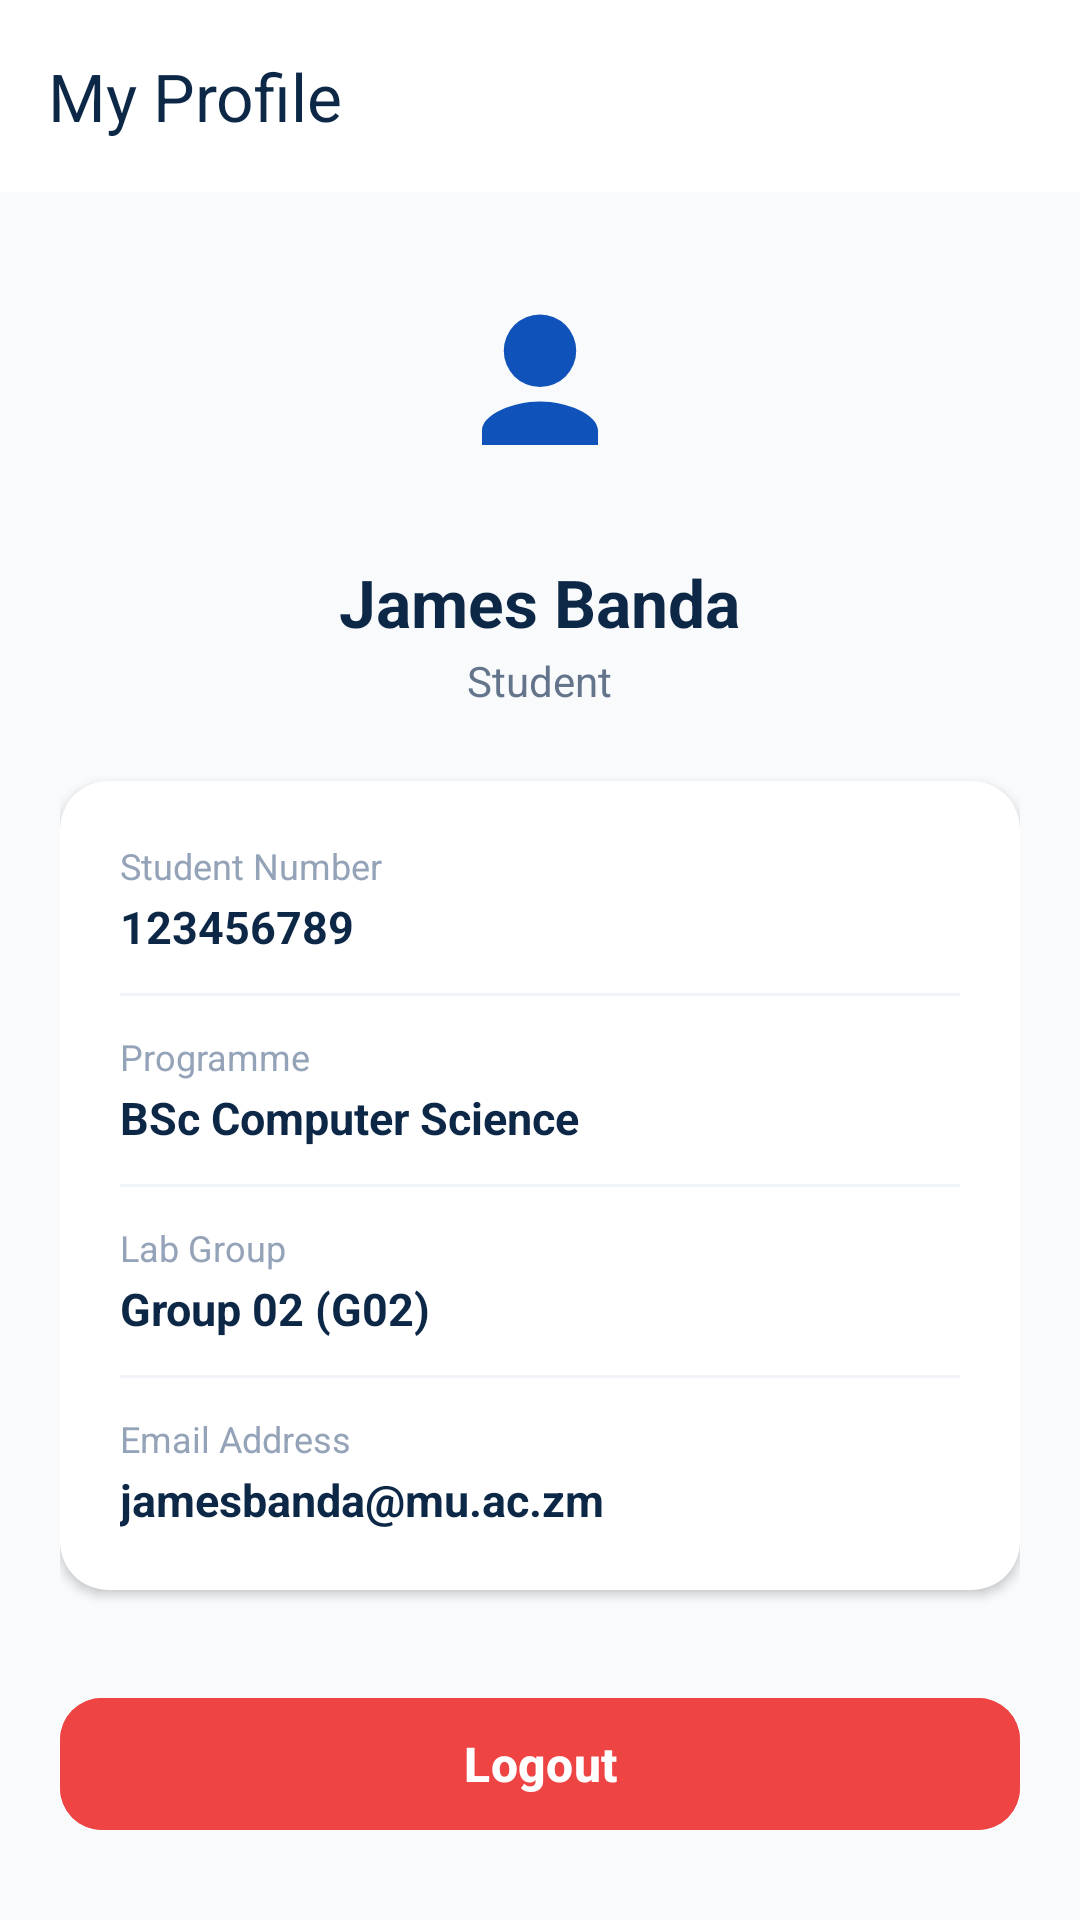

Screen size 1080px x 1920px. Icon name, then its center in pixels as point (x, y):
person head: point (540, 379)
